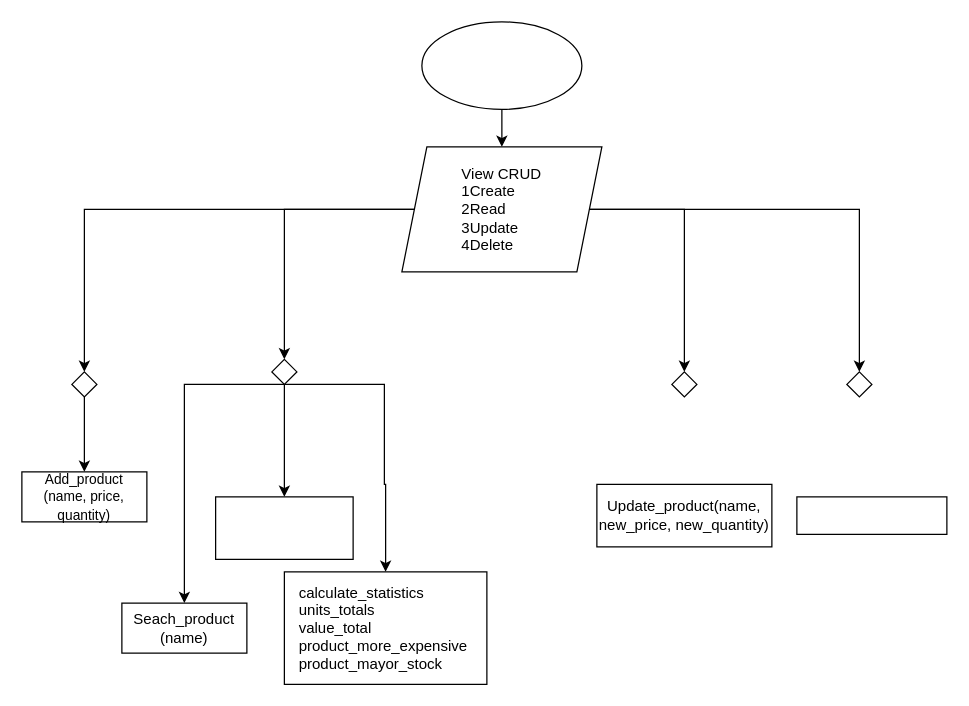
This 969x706 diagram has some shape labels left out. Here are the shapes that lost their labels. From the top down, the centre of each, then its label:
At (x=501, y=65): "start".
At (x=283, y=527): "View_inventory (inventario)".
At (x=871, y=515): "delete_product (name )".
